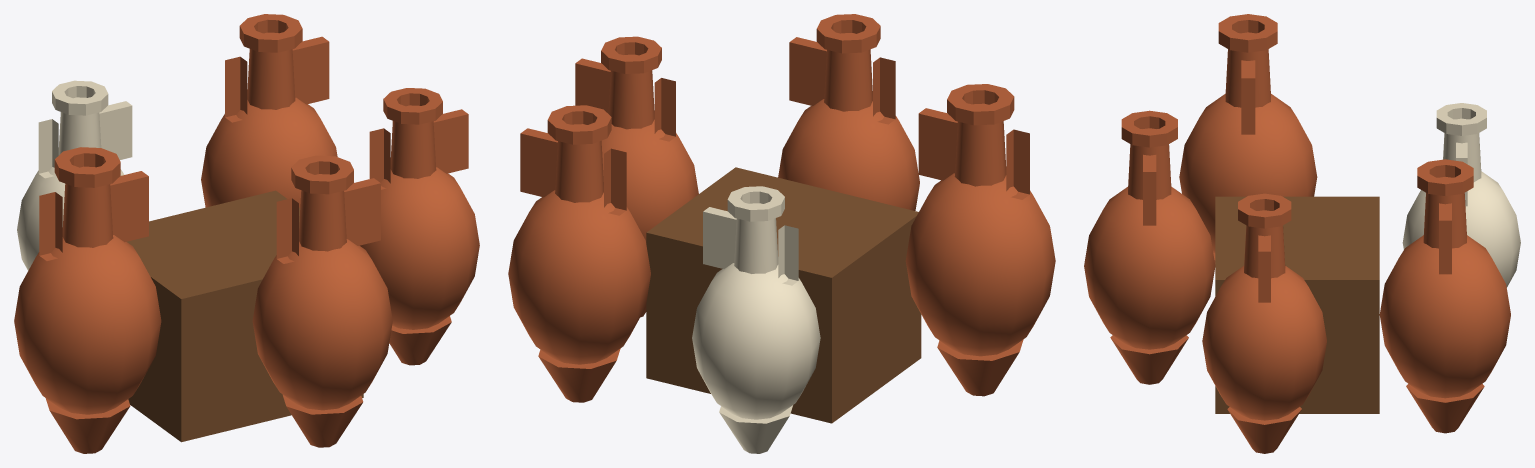
File: im_amphorae.glb
3 renders of one model, left to right at view 1: azimuth 30°, elevation 25°; view 2: azimuth 150°, elevation 25°; view 3: azimuth 270°, elevation 25°, orthographic. The views are drawn at different scales.
Parts seen in each view (by area): view 1: im_amphorae; view 2: im_amphorae; view 3: im_amphorae.
Boxes of the visible parts, bbox=[...] form: im_amphorae: bbox=[14, 14, 479, 453]; im_amphorae: bbox=[508, 14, 1055, 453]; im_amphorae: bbox=[1084, 14, 1520, 453].
Size of the model in its own units: 1.5 by 0.9 by 1.33.
